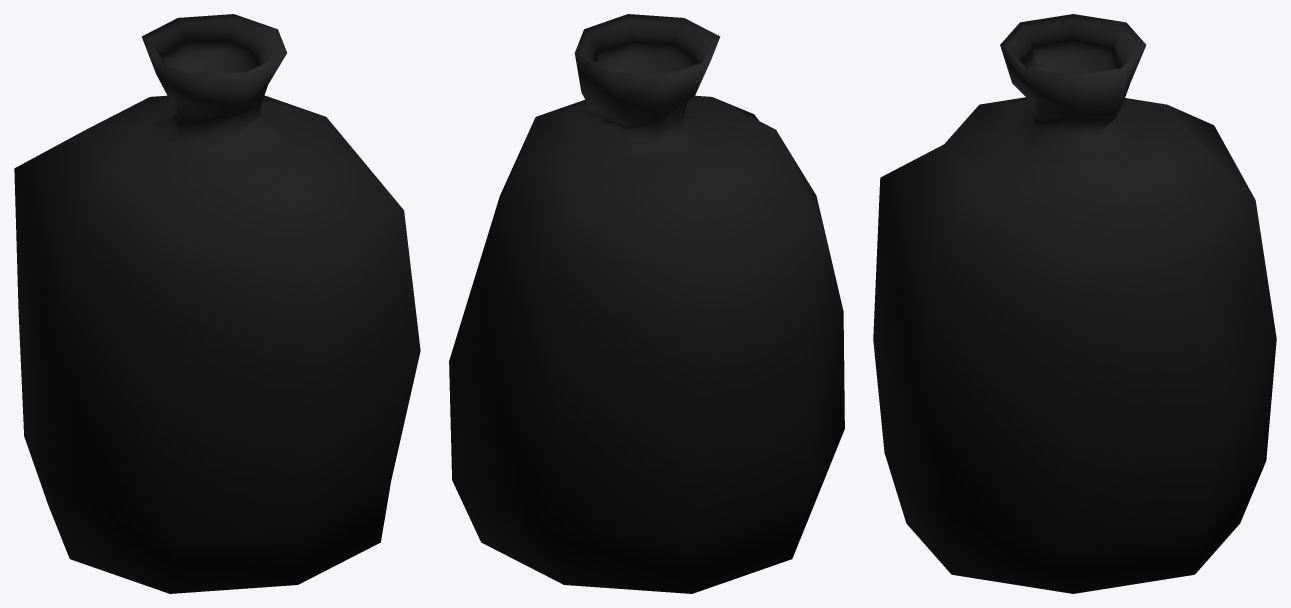
The model's file is Trash.fbx.
The picture shows the model from 3 angles, left to right: view 1: azimuth 30°, elevation 25°; view 2: azimuth 150°, elevation 25°; view 3: azimuth 270°, elevation 25°; orthographic projection.
Parts seen in each view (by area): view 1: TrashBag; view 2: TrashBag; view 3: TrashBag.
Boxes of the visible parts, x1,y1,x2,y2 form: TrashBag: (14, 14, 420, 593); TrashBag: (449, 14, 844, 593); TrashBag: (873, 14, 1276, 593).
Bounding box in the file's own units: 115 × 165 × 119.
